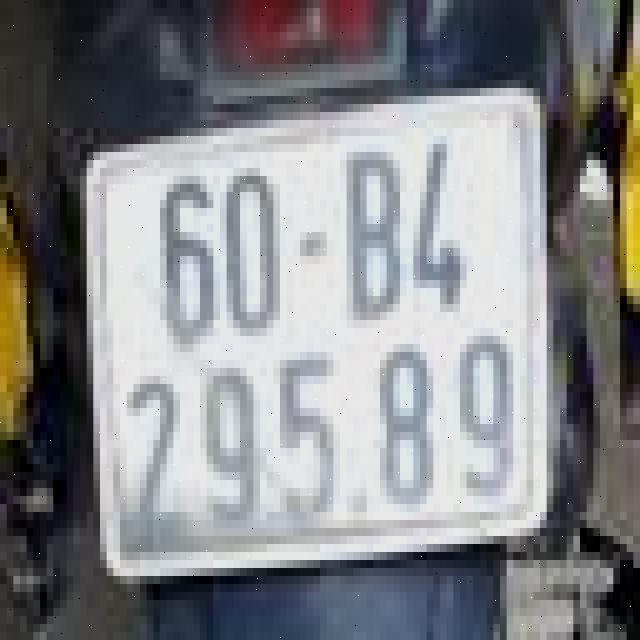0: (220, 164, 293, 340)
2: (116, 352, 196, 552)
4: (416, 136, 476, 320)
5: (273, 340, 347, 524)
6: (150, 160, 223, 352)
8: (373, 332, 440, 516)
9: (197, 356, 270, 548), (450, 328, 523, 512)
B: (333, 148, 420, 332)
